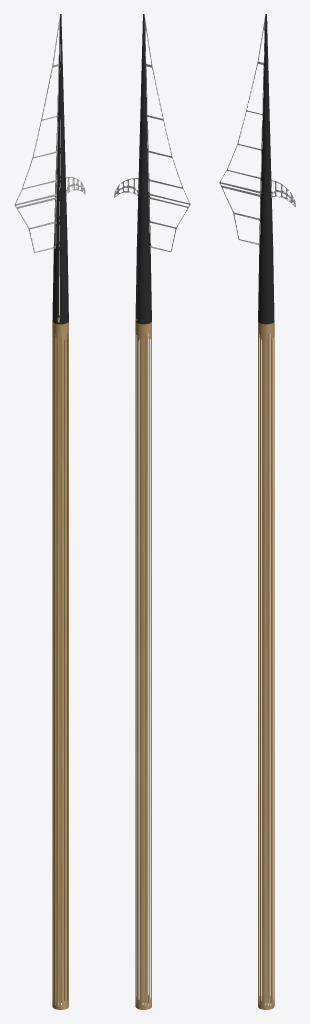
File: FlatPointHalberd.fbx
The picture shows the model from 3 angles, left to right: view 1: azimuth 30°, elevation 25°; view 2: azimuth 150°, elevation 25°; view 3: azimuth 330°, elevation 25°; orthographic projection.
Parts seen in each view (by area): view 1: pCylinder3, pCylinder4; view 2: pCylinder3, pCylinder4; view 3: pCylinder3, pCylinder4.
Boxes of the visible parts, <box> form: pCylinder3: <box>52,317,68,1009</box>; pCylinder4: <box>14,14,85,324</box>; pCylinder3: <box>135,319,151,1009</box>; pCylinder4: <box>114,14,190,324</box>; pCylinder3: <box>258,320,274,1009</box>; pCylinder4: <box>219,14,295,324</box>.
Bounding box in the file's own units: 0.3356 × 4.33 × 0.0663.
Materials: 1 (1 with a texture image).
